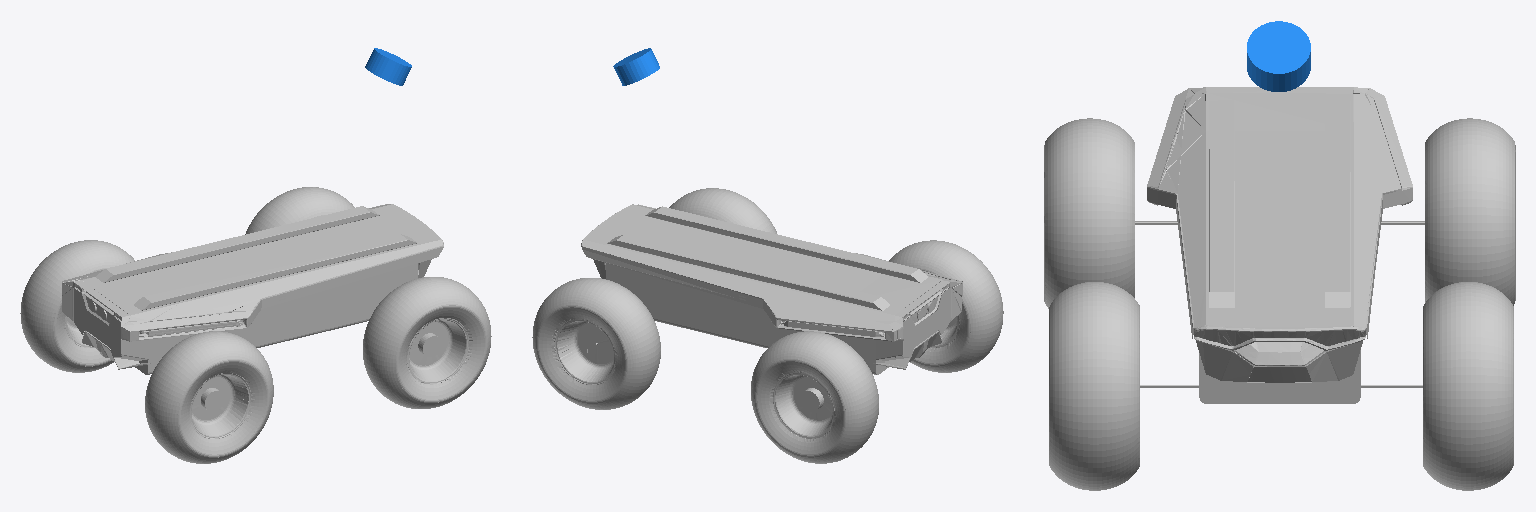
URDF robot description (yhs_chassis_description):
<?xml version="1.0"?>
<robot name="yhs_chassis_description">
  <!-- 1. 先定义所有link（顺序：底盘→轮子→雷达） -->
  <link name="base_link">
    <visual>
      <origin xyz="-0.5 -0.37 -0.17" rpy="0 0 0"/>
      <geometry>
        <!-- 替换为你的底盘mesh路径，若没有mesh可改用<box>简化 -->
        <mesh filename="package://yhs_chassis_description/meshes/MK-mid-BASE.STL"/>
      </geometry>
      <material name="base_material">
        <color rgba="0.8 0.8 0.8 1"/>
      </material>
    </visual>
  </link>

  <link name="front_left_wheel">
    <visual>
      <origin xyz="0 0 0" rpy="0 0 0"/>
      <geometry>
        <mesh filename="package://yhs_chassis_description/meshes/MK-mid-WHEEL.STL"/>
      </geometry>
      <material name="wheel_material">
        <color rgba="0.8 0.8 0.8 1"/>
      </material>
    </visual>
  </link>

  <link name="front_right_wheel">
    <visual>
      <origin xyz="0 0 0" rpy="0 0 0"/>
      <geometry>
        <mesh filename="package://yhs_chassis_description/meshes/MK-mid-WHEEL.STL"/>
      </geometry>
      <material name="wheel_material">
        <color rgba="0.8 0.8 0.8 1"/>
      </material>
    </visual>
  </link>

  <link name="mid360_link">
    <visual>
      <origin xyz="0 0 0" rpy="0 0 0"/>
      <geometry>
        <cylinder radius="0.05" length="0.05"/> <!-- 简化雷达模型 -->
      </geometry>
      <material name="lidar_material">
        <color rgba="0.2 0.6 1.0 1"/>
      </material>
    </visual>
  </link>

  <!-- 2. 再定义所有关节（顺序与link对应） -->
  <joint name="front_left_wheel_joint" type="continuous">
    <axis xyz="0 0 1"/>
    <parent link="base_link"/> <!-- 父link已提前定义 -->
    <child link="front_left_wheel"/> <!-- 子link已提前定义 -->
    <origin xyz="-0.5 0.22 -0.17" rpy="0 0 0"/>
    <limit effort="100" velocity="100"/>
    <joint_properties damping="0.0" friction="0.0"/>
  </joint>

  <joint name="front_right_wheel_joint" type="continuous">
    <axis xyz="0 0 1"/>
    <parent link="base_link"/>
    <child link="front_right_wheel"/>
    <origin xyz="-0.5 -0.36 -0.17" rpy="0 0 0"/>
    <limit effort="100" velocity="100"/>
    <joint_properties damping="0.0" friction="0.0"/>
  </joint>

  <joint name="mid360_joint" type="fixed">
    <parent link="base_link"/>
    <child link="mid360_link"/>
    <origin xyz="0.34 0 0.75" rpy="0 0.5236 0"/> <!-- 雷达位置，可按需调整 -->
  </joint>

</robot> <!-- 根标签闭合，后面无任何内容 -->

--- Render facts (derived) ---
3 views of the same robot in one strip: view 1: azimuth 30°, elevation 25°; view 2: azimuth 150°, elevation 25°; view 3: azimuth 270°, elevation 25° (orthographic).
Model yhs_chassis_description with 4 links and 3 joints (2 continuous, 1 fixed), rooted at base_link, posed all joints at 0.
Visible links, largest first — view 1: base_link, front_right_wheel, front_left_wheel, mid360_link; view 2: base_link, front_left_wheel, front_right_wheel, mid360_link; view 3: base_link, front_right_wheel, front_left_wheel, mid360_link.
Link boxes in pixels (left/top/right/bottom): base_link: left=20, top=204, right=443, bottom=463; front_right_wheel: left=363, top=277, right=491, bottom=408; front_left_wheel: left=245, top=187, right=354, bottom=234; mid360_link: left=365, top=48, right=411, bottom=85; base_link: left=581, top=204, right=1003, bottom=463; front_left_wheel: left=532, top=278, right=660, bottom=409; front_right_wheel: left=669, top=188, right=776, bottom=233; mid360_link: left=613, top=48, right=659, bottom=85; base_link: left=1044, top=87, right=1515, bottom=403; front_right_wheel: left=1049, top=282, right=1139, bottom=490; front_left_wheel: left=1423, top=282, right=1513, bottom=490; mid360_link: left=1247, top=21, right=1310, bottom=91.
Size in the robot's own frame: 0.9246 by 0.7312 by 0.8012 metres.
3 mesh visuals loaded from 2 distinct referenced files (2 binary STL).
